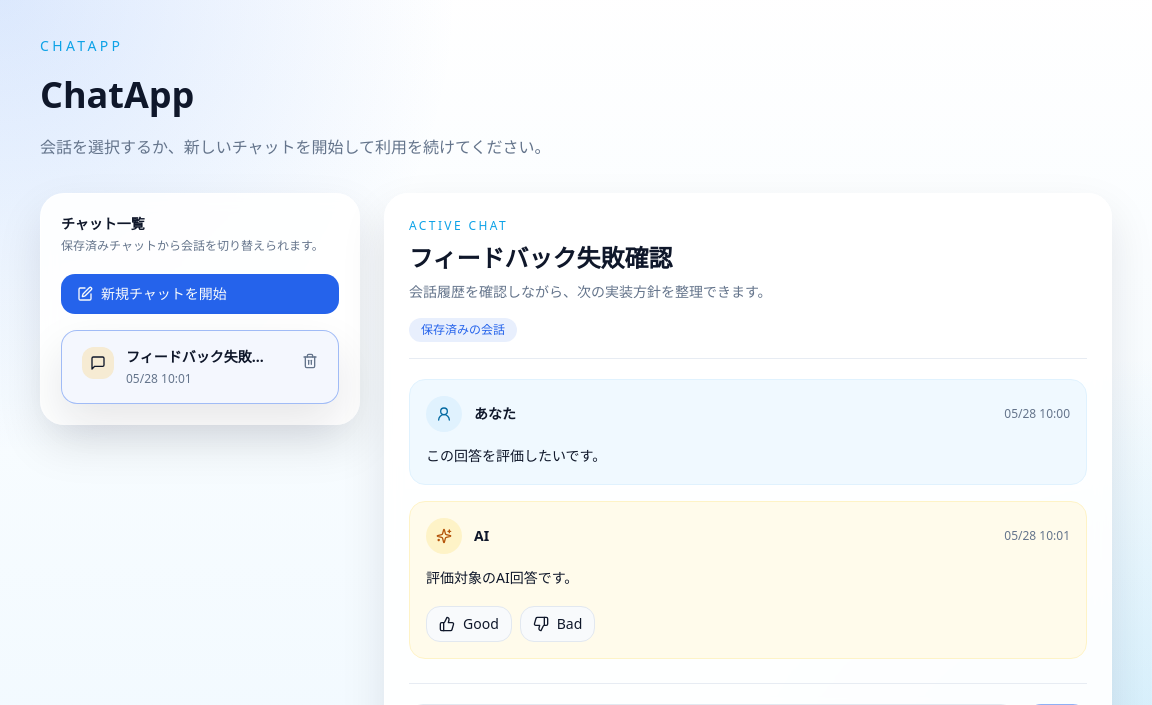
Test case: TopRoute workspace behavior › shows a feedback error on the target message without breaking the composer
The image size is (1152, 705).
Expected: the text "評価対象のAI回答です。" is shown, left=426, top=568, right=578, bottom=587
Click the button "Bad".
click(558, 624)  # box left=520, top=606, right=595, bottom=642
(page scrolled)
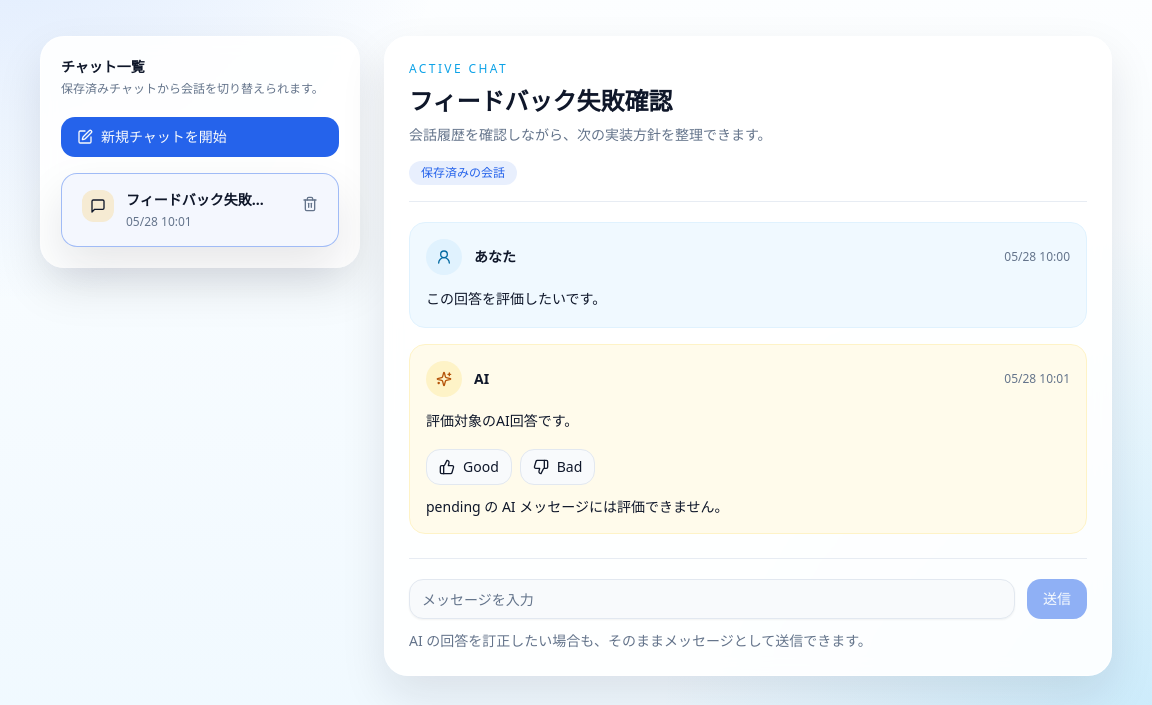
Expected: the field named "メッセージ入力" is enabled, left=409, top=579, right=1015, bottom=619
Now the text "pending の AI メッセージには評価できません。" is shown, box left=426, top=497, right=729, bottom=516
